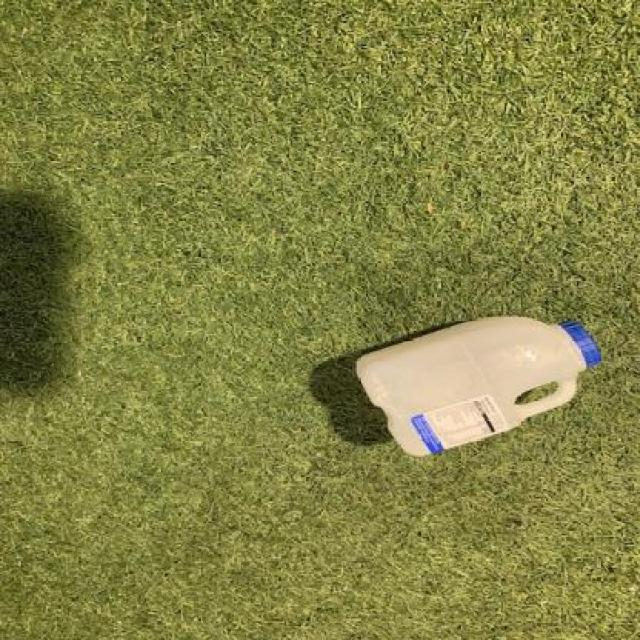trash: (352, 318, 599, 459)
